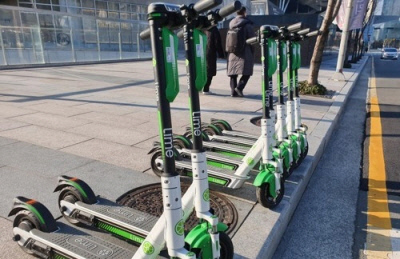kick_handler: (249, 22, 304, 42)
kick_neck: (151, 41, 178, 259), (184, 35, 216, 218), (261, 45, 273, 157), (274, 44, 287, 133), (295, 46, 303, 124)
kick_wheel: (9, 197, 51, 252), (56, 176, 91, 223), (148, 143, 174, 176), (256, 173, 282, 205)
